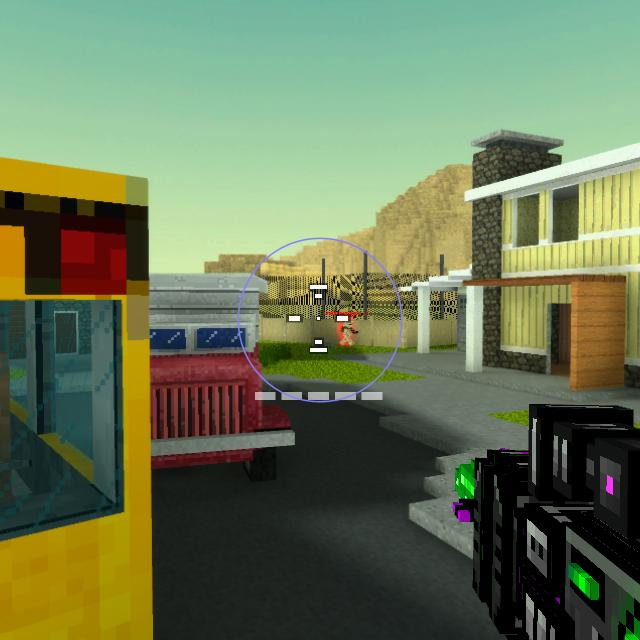Enemy: (341, 319, 357, 345)
